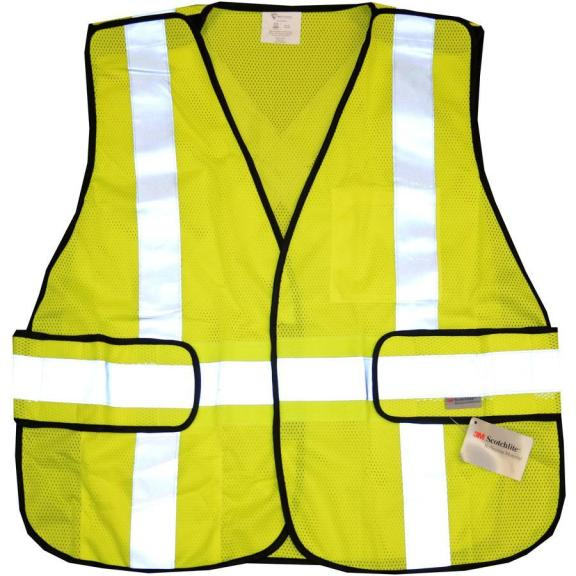safety_vest: (7, 1, 568, 575)
